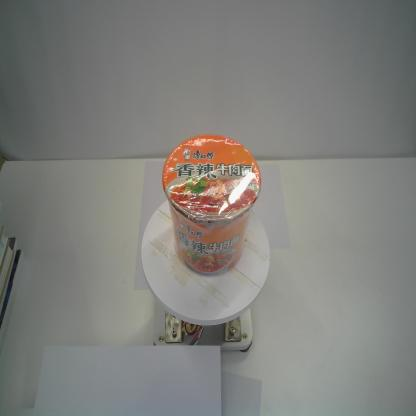Instant Noodles: (162, 132, 262, 279)
